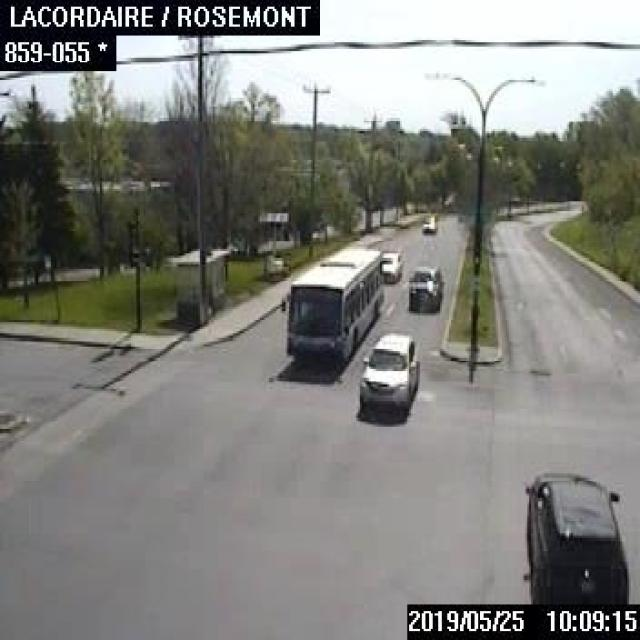bus: (280, 248, 381, 362)
construction: (258, 208, 288, 280)
vehicle: (522, 471, 627, 600), (358, 333, 418, 413), (407, 266, 443, 310), (381, 250, 401, 281), (420, 214, 435, 232)
